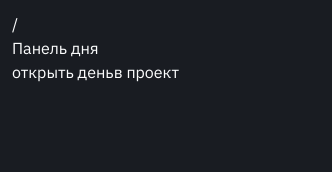
Test: «Назад» — ровно на шаг › стрелка подписана местом, откуда пришли, и ведёт туда
Later steps or results of the test are not shown.
Click the link "в проект". click: coordinates (146, 72)
box: [114,62,179,82]
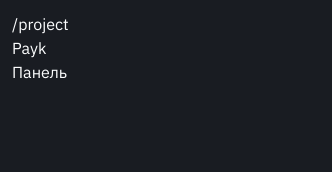
Result: the text with test id "path" reads "/project" at [12,14,69,34]
Result: the link with aria-label "Назад" reads "Панель" at [12,62,67,82]
